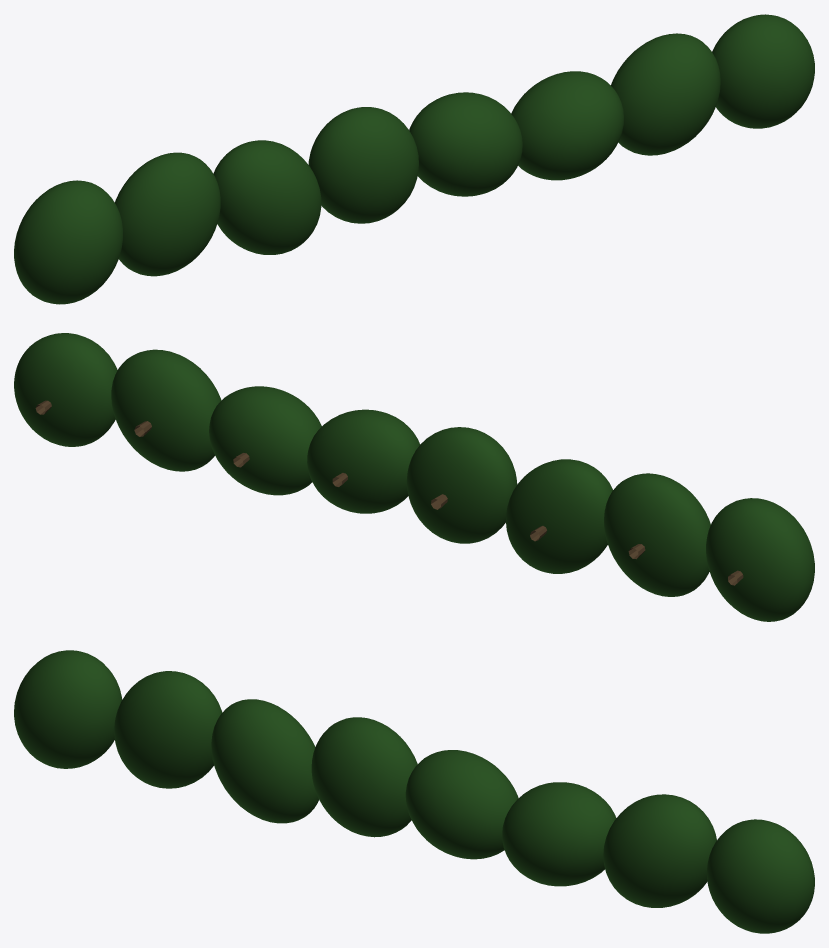
The model's file is citrus_plain8_d.obj.
3 views of the same model, one above another, from view 1: azimuth 30°, elevation 25°; view 2: azimuth 150°, elevation 25°; view 3: azimuth 330°, elevation 25° (orthographic).
Parts seen in each view (by area): view 1: canopy; view 2: canopy, trunk; view 3: canopy.
Boxes of the visible parts, x1,y1,x2,y2 form: canopy: (14,14,814,304); canopy: (14,333,814,621); trunk: (35,400,743,585); canopy: (14,650,814,933).
Size of the model in its own units: 23.99 by 3.49 by 2.93.
